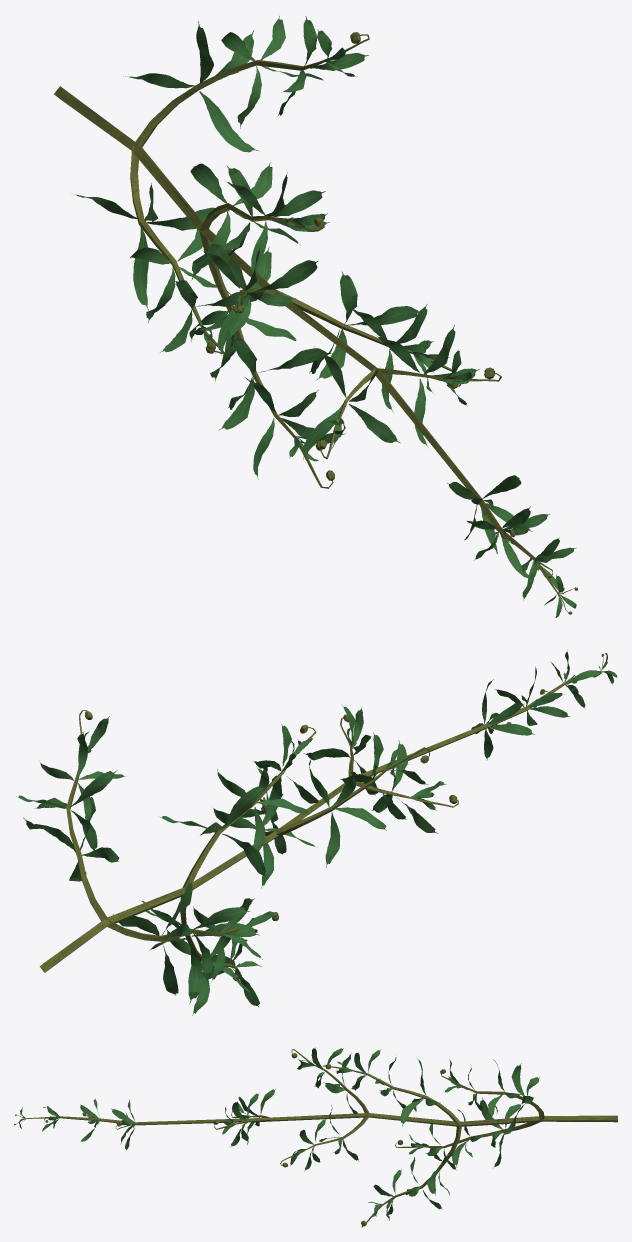
The picture shows the model from 3 angles, top to bottom: view 1: azimuth 30°, elevation 25°; view 2: azimuth 150°, elevation 25°; view 3: azimuth 270°, elevation 25°; orthographic projection. The views are drawn at different scales.
Visible parts, largest first — view 1: GC09_1; view 2: GC09_1; view 3: GC09_1.
Boxes of the visible parts, x1=… form: GC09_1: x1=54, y1=16, x2=577, y2=617; GC09_1: x1=16, y1=649, x2=617, y2=1015; GC09_1: x1=14, y1=1047, x2=617, y2=1227.
Bounding box in the file's own units: 1.21 × 1.4 × 4.04.
2 materials, 2 textured.
